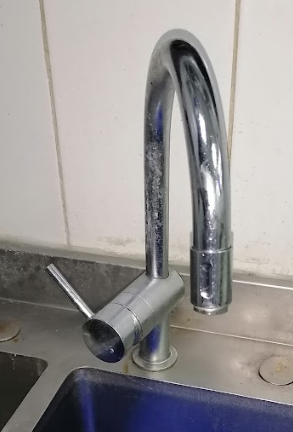Deck Faucet: (42, 22, 276, 395)
